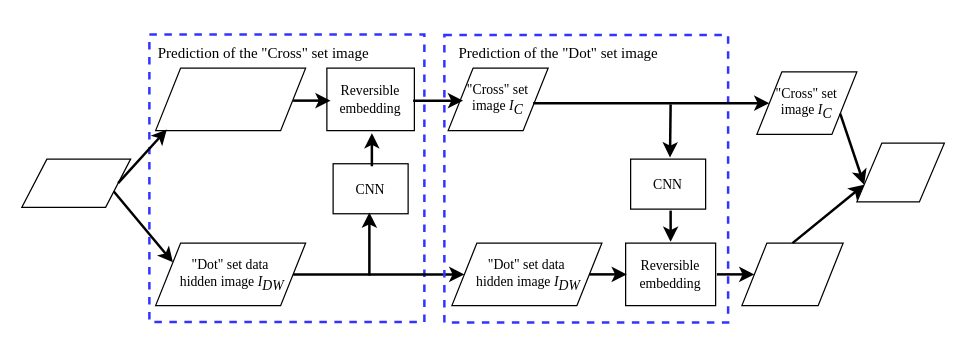
Some shapes in this 966 by 345 pixel diagram are drawn without their labels. The shapes that lost their labels are listed below. From the top down, each one's centre as x and y in pixels, then its label:
(230,99): "Cross" set data hidden image I CW
(76,182): Data Hidden image I w
(900,172): Original image I
(792,274): "Dot" set image I D
